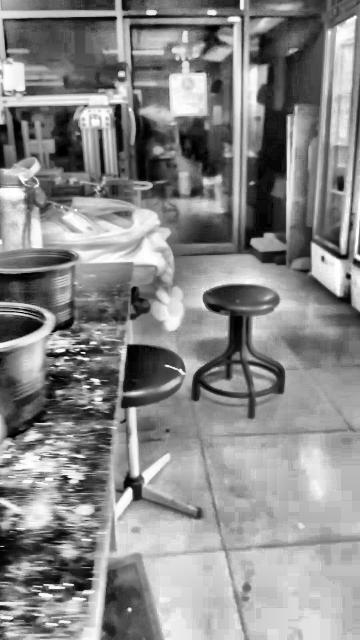pot: (0, 302, 55, 439), (0, 248, 79, 330)
